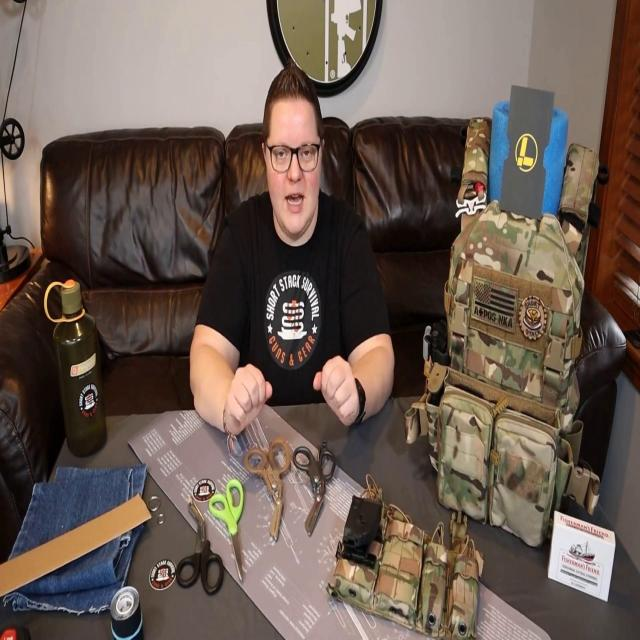scissor: (244, 436, 290, 542), (176, 501, 223, 597), (293, 438, 336, 536), (210, 478, 244, 582)
